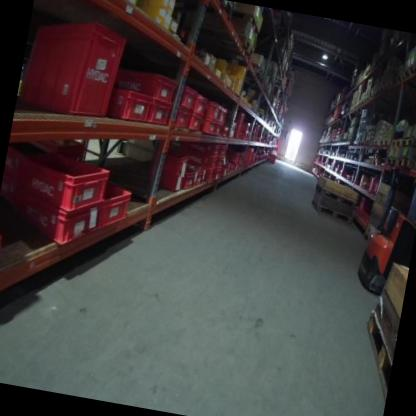pallet: (349, 311, 400, 404), (308, 199, 355, 226), (312, 182, 359, 208), (228, 9, 261, 37), (238, 38, 255, 59), (396, 156, 413, 168), (400, 137, 416, 148), (390, 137, 401, 150), (386, 155, 397, 167), (378, 137, 390, 147), (370, 139, 378, 146)
pallet_truck: (351, 156, 416, 300)
small_load_carrier: (20, 11, 134, 128), (1, 137, 114, 215), (0, 186, 103, 249), (80, 178, 135, 228), (113, 65, 180, 104), (102, 88, 156, 127), (160, 152, 209, 194), (140, 95, 175, 128), (187, 139, 228, 158), (178, 152, 216, 170), (169, 104, 195, 130), (175, 82, 197, 111), (189, 92, 211, 115), (186, 113, 204, 135), (203, 101, 221, 123), (214, 104, 229, 125), (199, 120, 215, 135), (210, 122, 222, 139), (199, 171, 216, 183), (219, 125, 232, 140), (211, 166, 224, 181), (214, 156, 224, 168)
